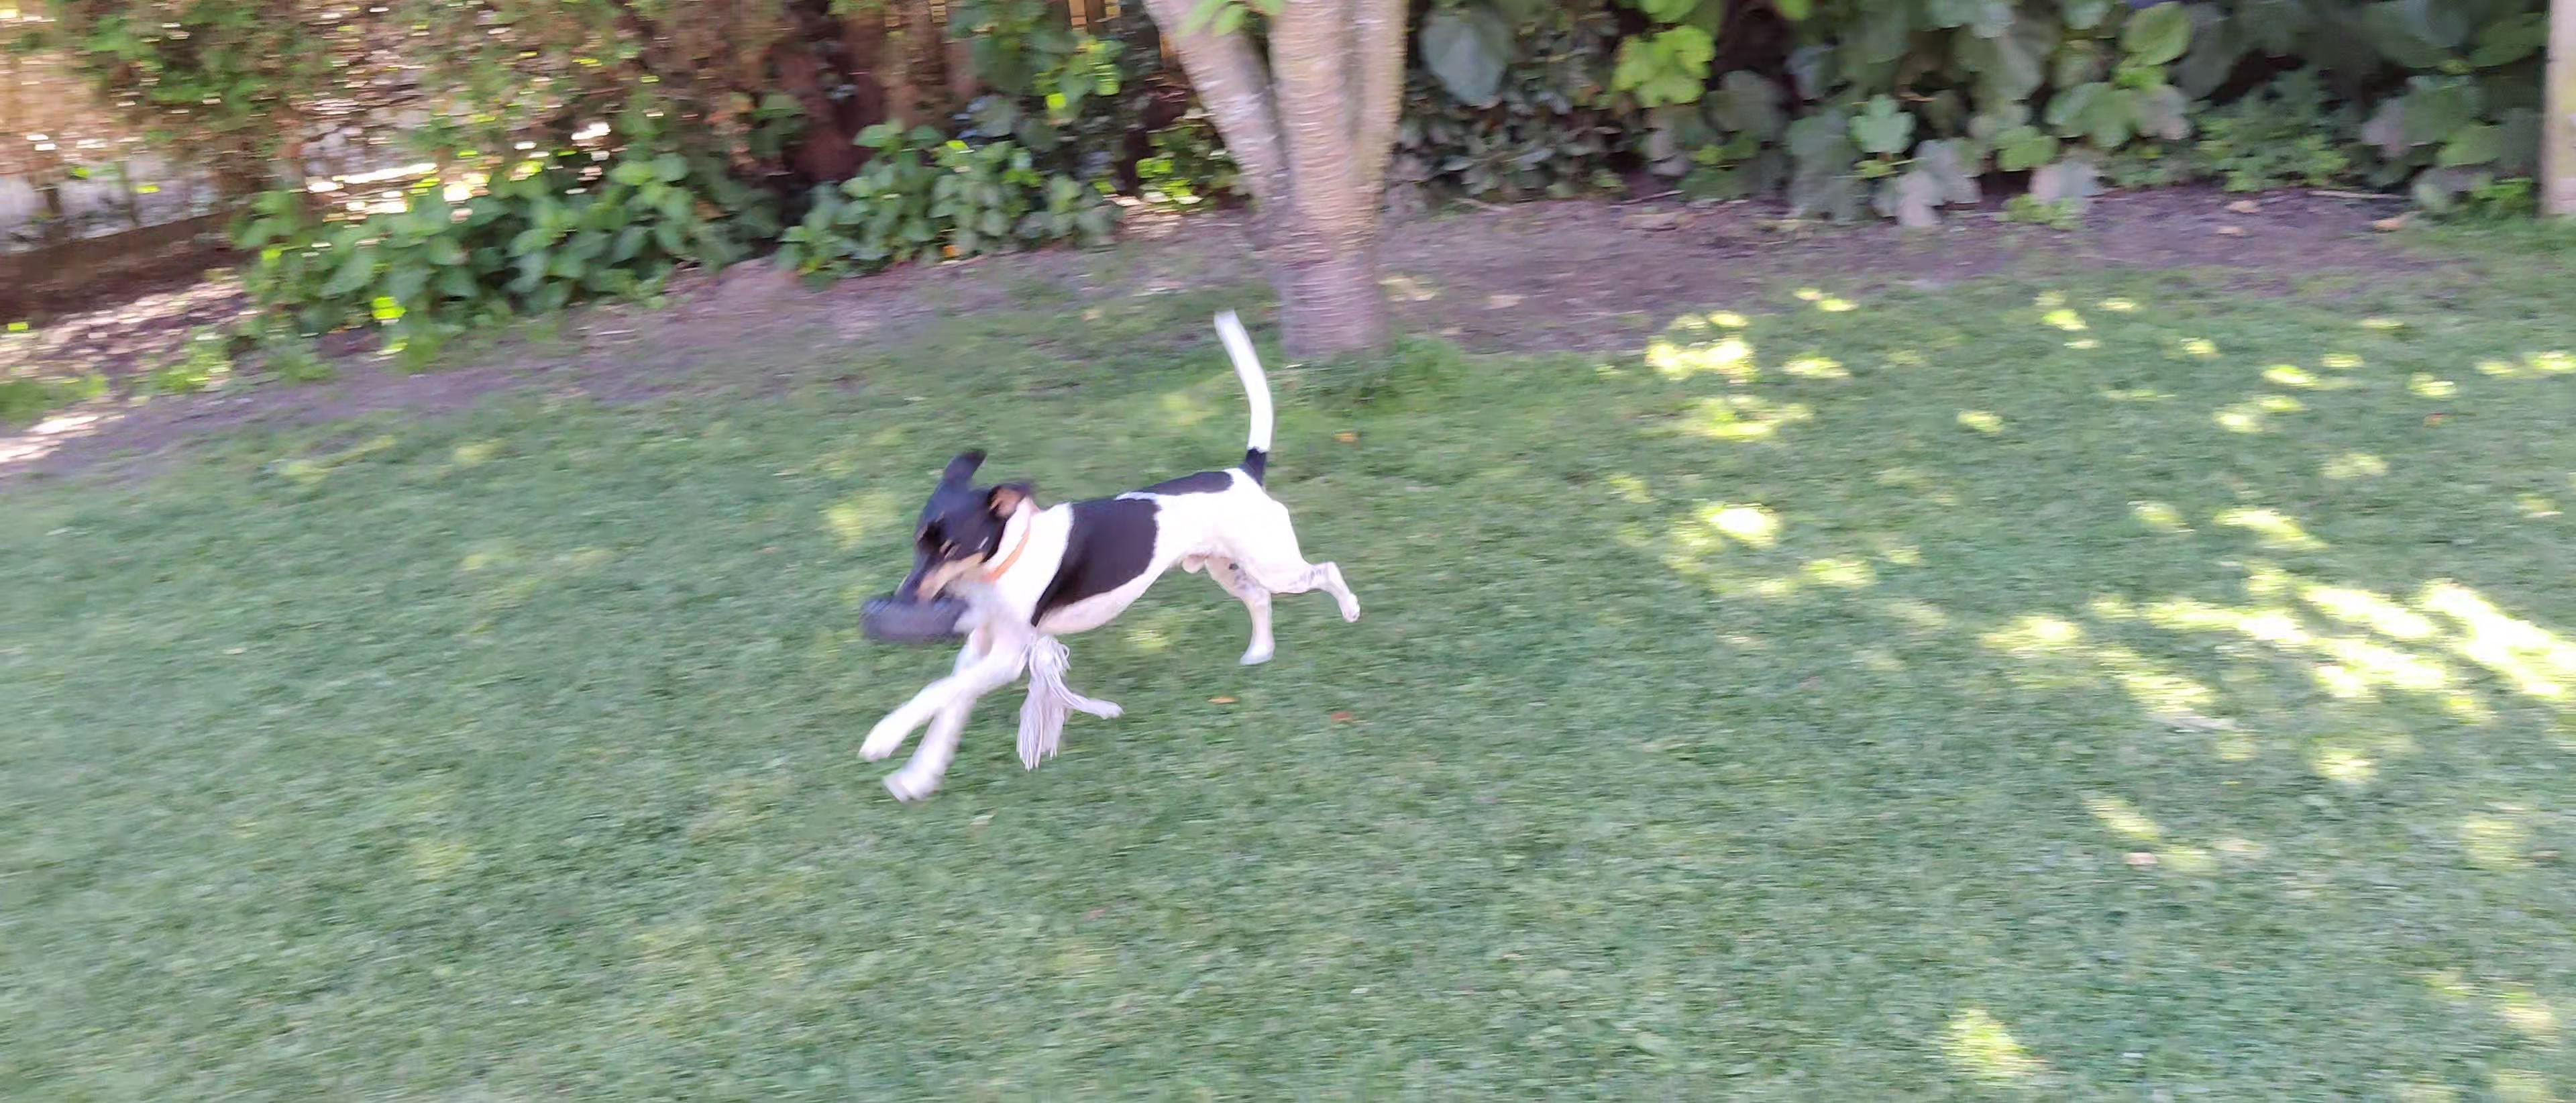Dog: (846, 301, 1372, 812)
